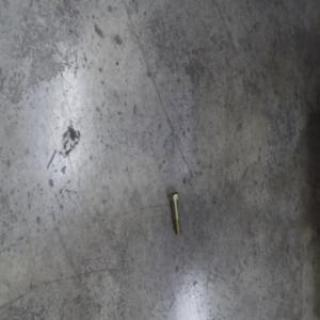Bolttrack_idkeyframe: (170, 191, 185, 237)
